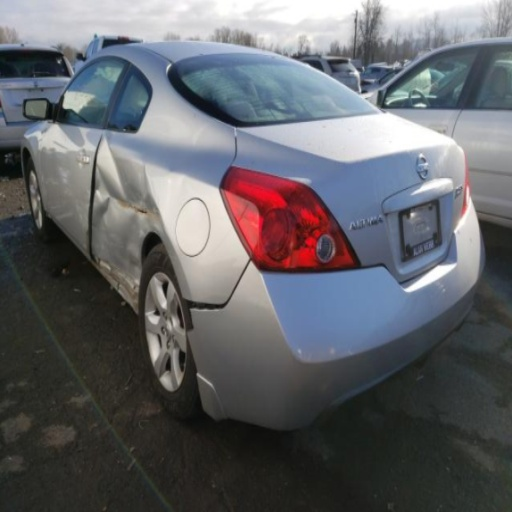dent: (88, 142, 167, 306)
rust: (91, 249, 135, 311)
